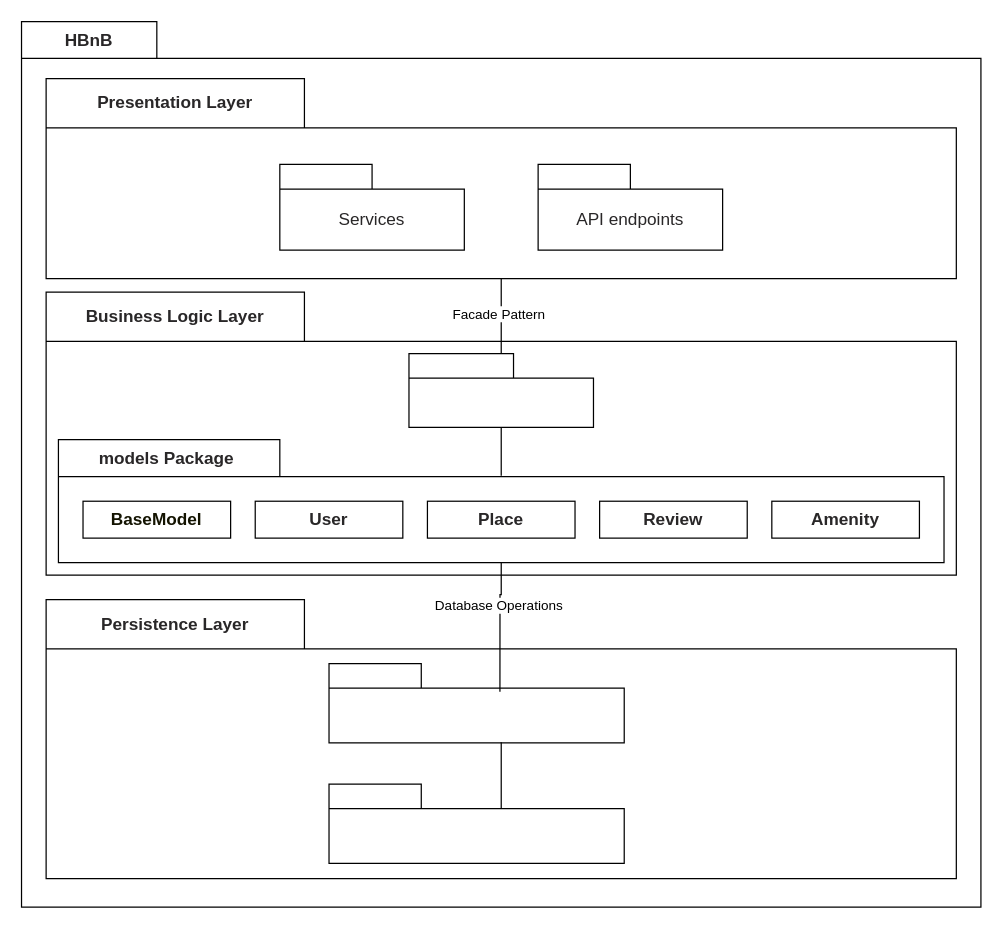
Some shapes in this 1002 by 929 pixel diagram are drawn without their labels. Each missing label, with the centre of its shape:
Database: (476,823)
Facade: (500,389)
Repositories: (476,702)
